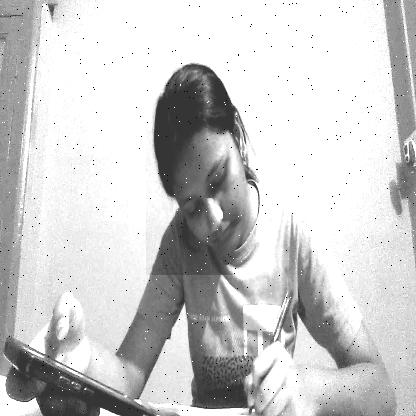Distracted: (146, 65, 256, 275)
